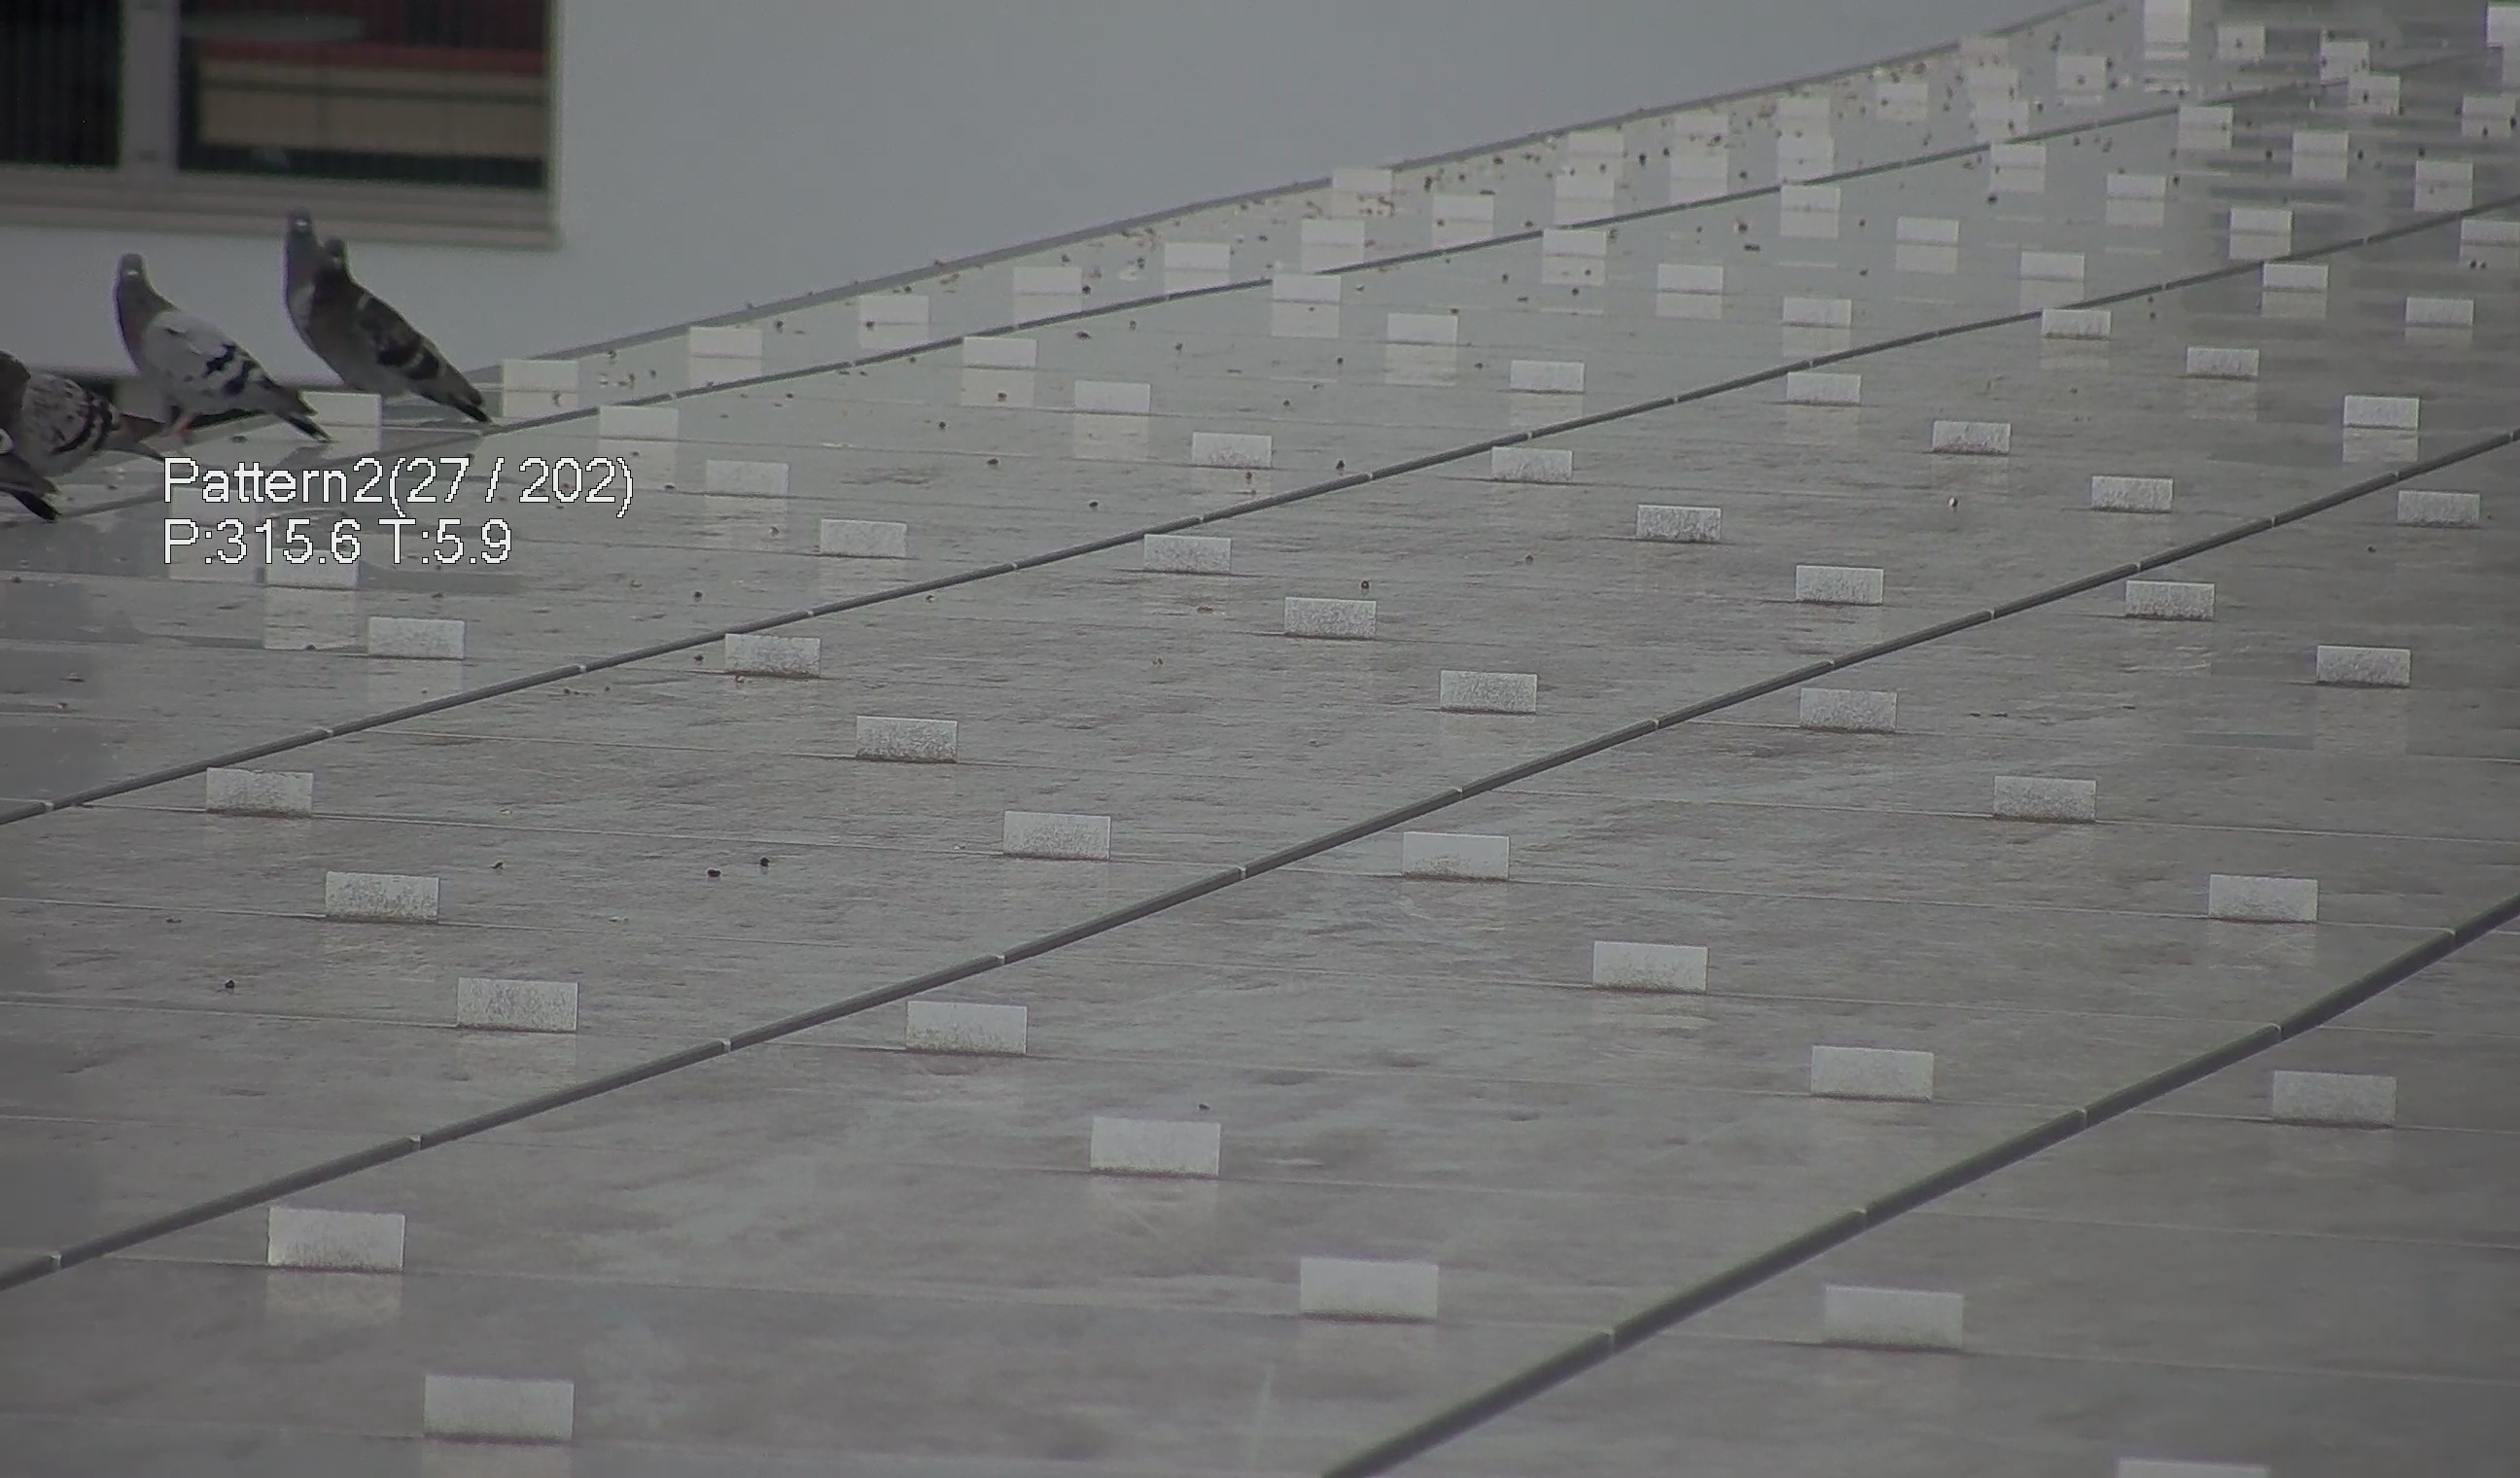Pigeon: (97, 234, 338, 475), (269, 204, 477, 433), (2, 326, 162, 521)
